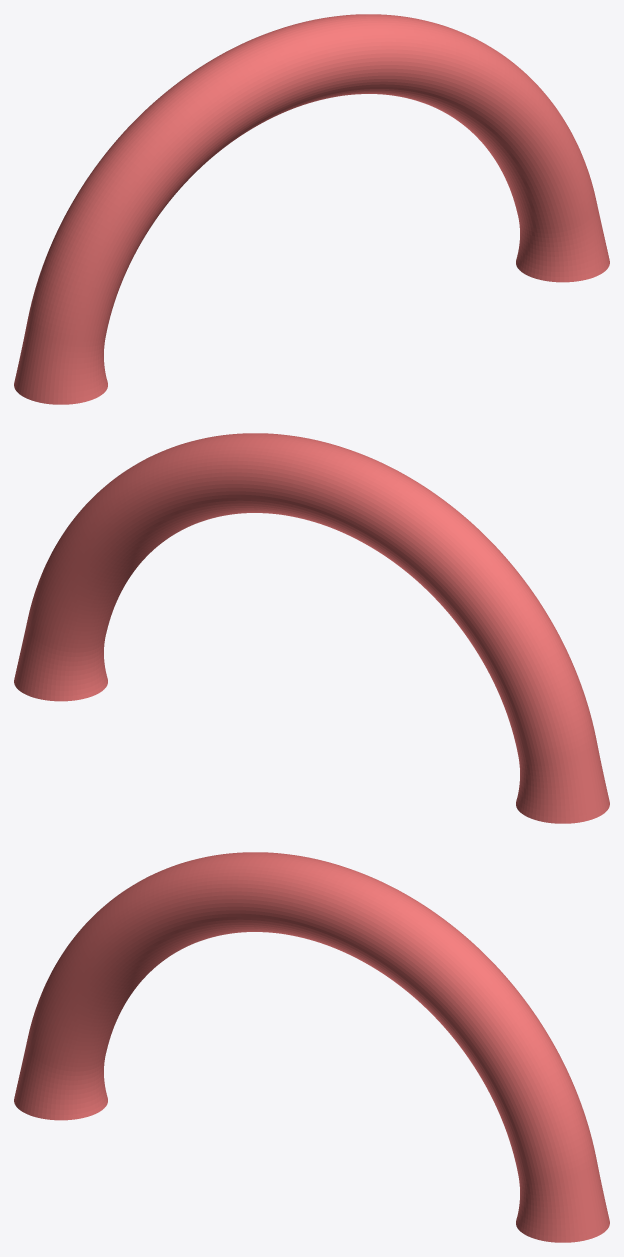
File: arch_red.glb
3 views of the same model, one above another, from view 1: azimuth 30°, elevation 25°; view 2: azimuth 150°, elevation 25°; view 3: azimuth 330°, elevation 25° (orthographic).
Visible parts, largest first — view 1: geometry_0; view 2: geometry_0; view 3: geometry_0.
Part boxes in pixels (x1,y1,x2,y2): geometry_0: (14, 14, 609, 404); geometry_0: (14, 433, 609, 823); geometry_0: (14, 852, 609, 1242).
Size of the model in its own units: 10.46 by 5.12 by 1.46.
